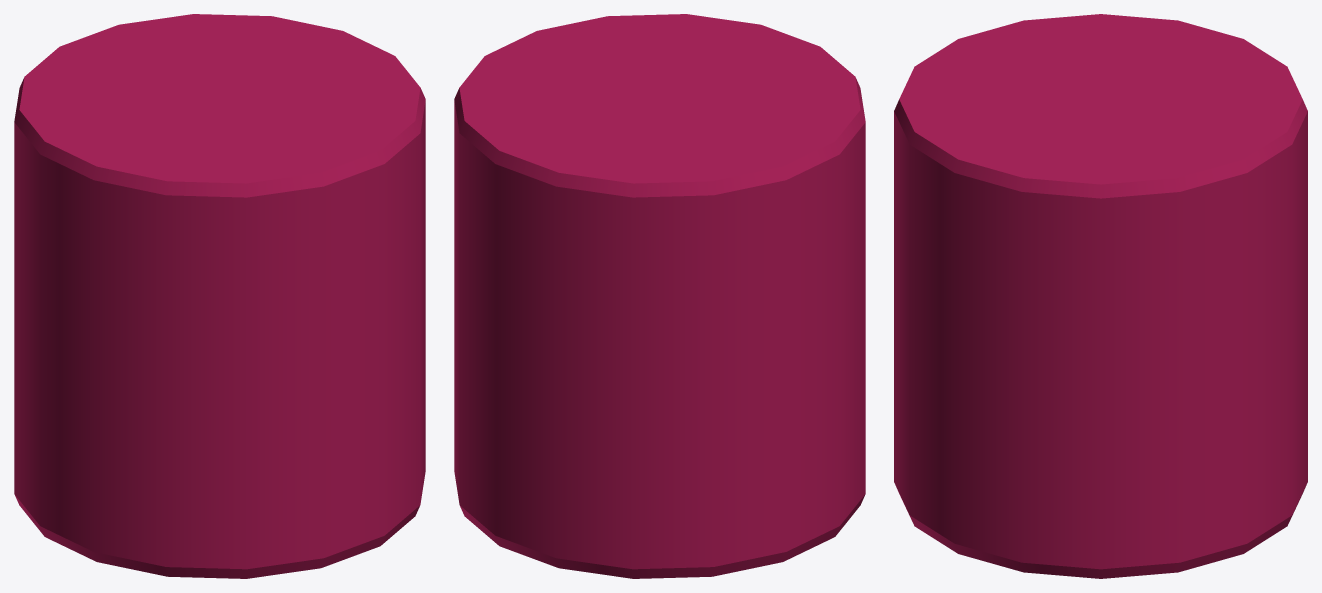
The model's file is Part_Flower_D1_simple.FBX.
3 renders of one model, left to right at view 1: azimuth 30°, elevation 25°; view 2: azimuth 150°, elevation 25°; view 3: azimuth 270°, elevation 25°, orthographic.
Visible parts, largest first — view 1: Cylinder029_simple; view 2: Cylinder029_simple; view 3: Cylinder029_simple.
Boxes of the visible parts, x1,y1,x2,y2 form: Cylinder029_simple: (14, 14, 425, 578); Cylinder029_simple: (454, 14, 865, 578); Cylinder029_simple: (894, 14, 1307, 578).
Bounding box in the file's own units: 95.11 × 100 × 95.11.
